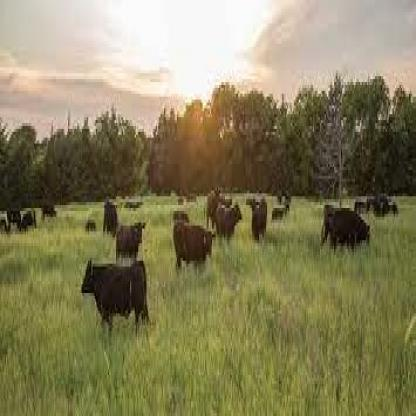cow: (80, 261, 147, 331), (173, 224, 215, 277), (326, 206, 370, 256), (116, 226, 145, 263), (218, 202, 243, 240), (250, 199, 267, 243)
